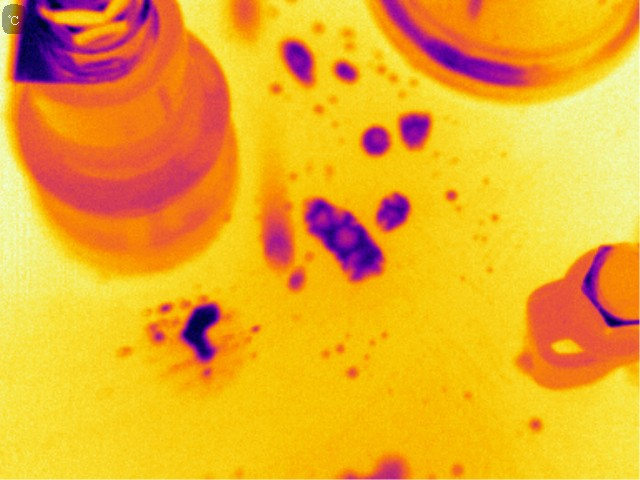Water: (303, 192, 386, 284), (173, 285, 243, 381), (257, 183, 304, 267), (280, 36, 319, 87), (334, 454, 407, 480), (377, 186, 411, 236), (223, 2, 266, 38), (398, 110, 431, 153), (358, 125, 391, 159), (141, 322, 170, 349), (332, 58, 358, 83), (144, 297, 176, 316), (284, 270, 311, 292), (115, 343, 142, 364), (449, 462, 470, 477), (268, 80, 287, 95), (463, 384, 478, 400), (530, 418, 544, 434), (443, 191, 457, 206), (347, 366, 359, 379), (314, 104, 326, 113), (336, 344, 345, 354)
